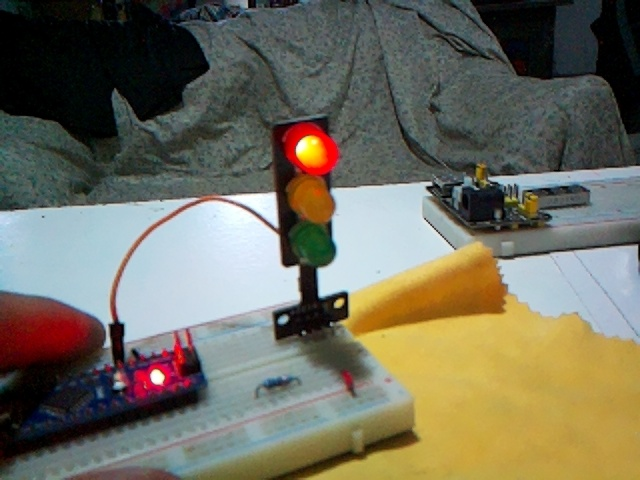traffic_light_red: (273, 115, 346, 337)
